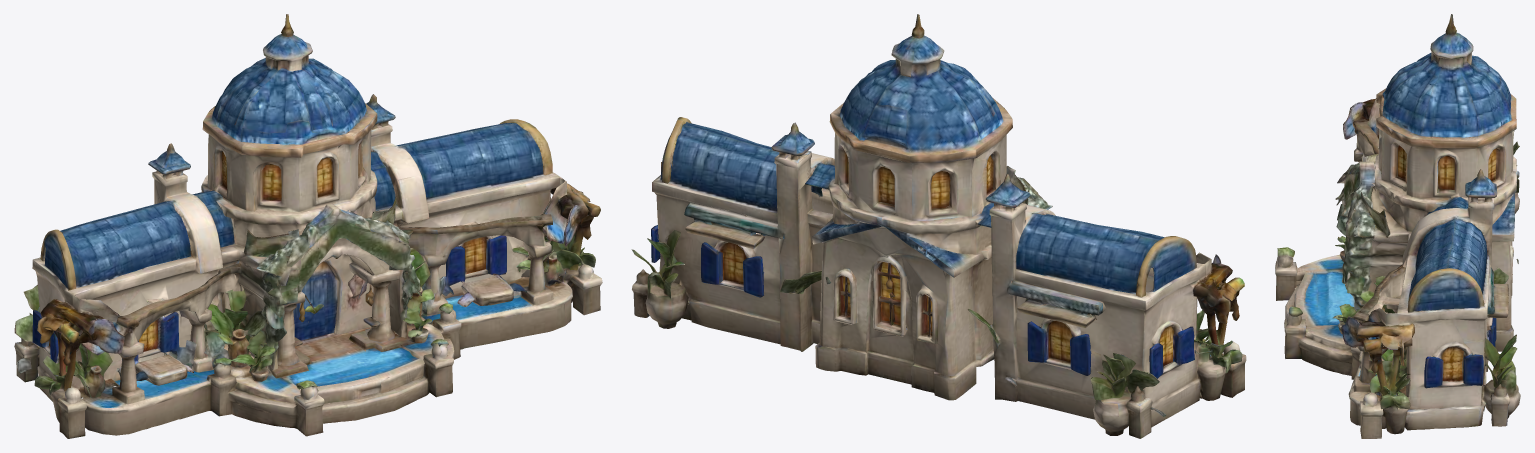
3 renders of one model, left to right at view 1: azimuth 30°, elevation 25°; view 2: azimuth 150°, elevation 25°; view 3: azimuth 270°, elevation 25°, orthographic. The views are drawn at different scales.
Visible parts, largest first — view 1: harbor__onsen_3__native_mobile; view 2: harbor__onsen_3__native_mobile; view 3: harbor__onsen_3__native_mobile.
Boxes of the visible parts, left/top/right/bottom form: harbor__onsen_3__native_mobile: left=14, top=14, right=602, bottom=438; harbor__onsen_3__native_mobile: left=631, top=14, right=1246, bottom=438; harbor__onsen_3__native_mobile: left=1275, top=14, right=1520, bottom=438.
Size of the model in its own units: 1 by 0.5904 by 0.4189.
Materials: 1 (1 with a texture image).
